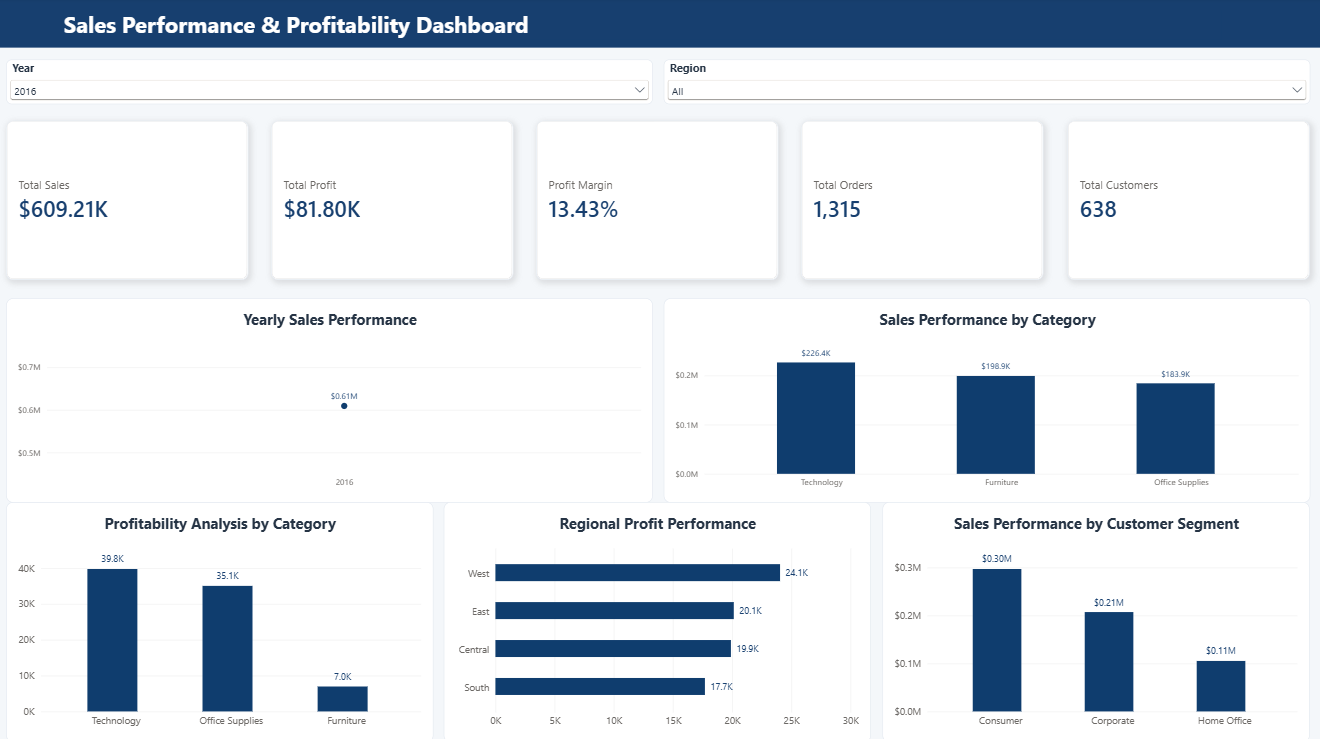

The dashboard page shown, as its layout file describes it:
{"tool":"powerbi","page":{"name":"Sales Overview","canvas":[1920,1080],"ordinal":0},"visuals":[{"type":"cardVisual","fields":{"Data":["superstore.Total Sales"]},"box":[15.6,180,350,230],"z":0},{"type":"cardVisual","fields":{"Data":["superstore.Total Profit"]},"box":[400,180,350,230],"z":1000},{"type":"cardVisual","fields":{"Data":["superstore.Profit Margin"]},"box":[784,180,350,230],"z":2000},{"type":"cardVisual","fields":{"Data":["superstore.Total Orders"]},"box":[1168,180,350,230],"z":3000},{"type":"cardVisual","fields":{"Data":["superstore.Total Customers"]},"box":[1552,180,350,230],"z":4000},{"type":"clusteredColumnChart","title":"Sales Performance by Category","fields":{"Category":["superstore.category"],"Y":["Sum(superstore.sales)"]},"box":[968,436,936,296],"z":5000},{"type":"clusteredColumnChart","title":"Profitability Analysis by Category","fields":{"Category":["superstore.category"],"Y":["Sum(superstore.profit)"]},"box":[16,732,618,348],"z":6000},{"type":"lineChart","title":"Yearly Sales Performance","fields":{"Category":["superstore.order_date.Variation.Date Hierarchy.Year","superstore.order_date.Variation.Date Hierarchy.Quarter","superstore.order_date.Variation.Date Hierarchy.Month","superstore.order_date.Variation.Date Hierarchy.Day"],"Y":["Sum(superstore.sales)"]},"box":[16,436,936,296],"z":7000},{"type":"clusteredBarChart","title":"Regional Profit Performance","fields":{"Category":["superstore.region"],"Y":["Sum(superstore.profit)"]},"box":[650,732,618,348],"z":8000},{"type":"slicer","fields":{"Values":["superstore.order_date.Variation.Date Hierarchy.Year"]},"box":[16,90,936,65],"z":9000},{"type":"slicer","fields":{"Values":["superstore.region"]},"box":[968,90,936,65],"z":10000},{"type":"clusteredColumnChart","title":"Sales Performance by Customer Segment","fields":{"Category":["superstore.segment"],"Y":["Sum(superstore.sales)"]},"box":[1284,732,618,348],"z":11000},{"type":"shape","box":[0,0,1920.4,73.3],"z":12000},{"type":"textbox","box":[100.1,17.9,1677.2,42.9],"z":13000}]}

Visuals, with their boxes in screenshot pixels (x1, y1, x2, y2), scaled from the page's 1920x1080 canvas onto the 1320x739 screenshot:
cardVisual - superstore.Total Sales: 11/123/251/281
cardVisual - superstore.Total Profit: 275/123/516/281
cardVisual - superstore.Profit Margin: 539/123/780/281
cardVisual - superstore.Total Orders: 803/123/1044/281
cardVisual - superstore.Total Customers: 1067/123/1308/281
"Sales Performance by Category" clusteredColumnChart: 666/298/1309/501
"Profitability Analysis by Category" clusteredColumnChart: 11/501/436/738
"Yearly Sales Performance" lineChart: 11/298/654/501
"Regional Profit Performance" clusteredBarChart: 447/501/872/738
slicer - superstore.order_date.Variation.Date Hierarchy.Year: 11/62/654/106
slicer - superstore.region: 666/62/1309/106
"Sales Performance by Customer Segment" clusteredColumnChart: 883/501/1308/738
shape: 0/0/1319/50
textbox: 69/12/1222/42
